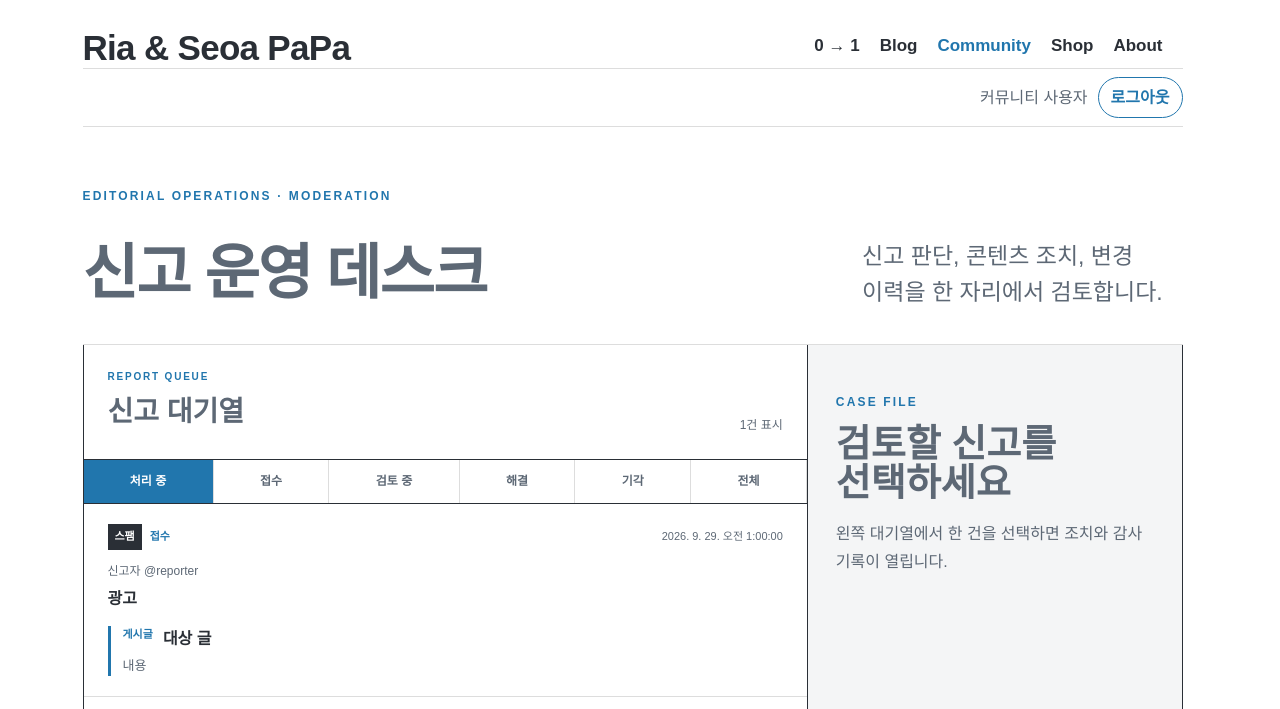
Test: AdminReportsPage › shows target audit after a content action and moves focus to the selected inspector
Step 1. Click the button with aria-label "신고 대상 글 선택" → (125, 537), box [84,504,807,696]
(page scrolled)
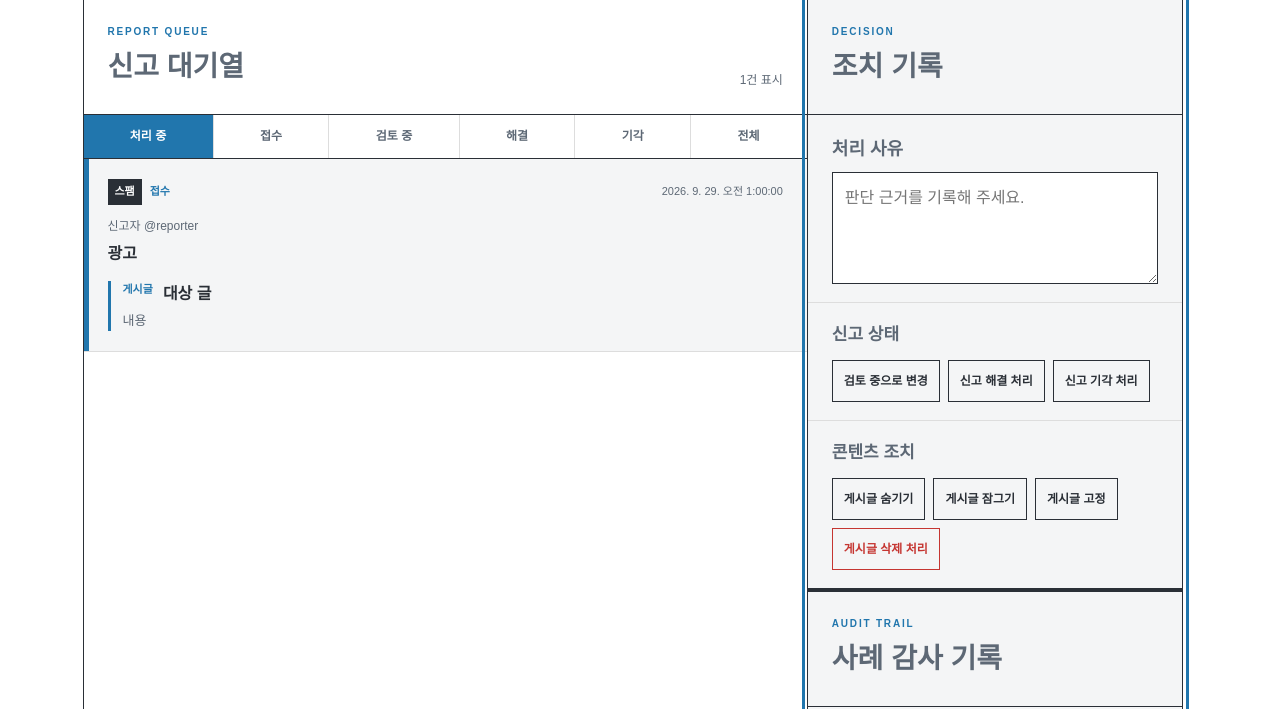
Step 2. Type "정책 위반" into the text box labelled "처리 사유" → (995, 228), box [832,172,1158,284]
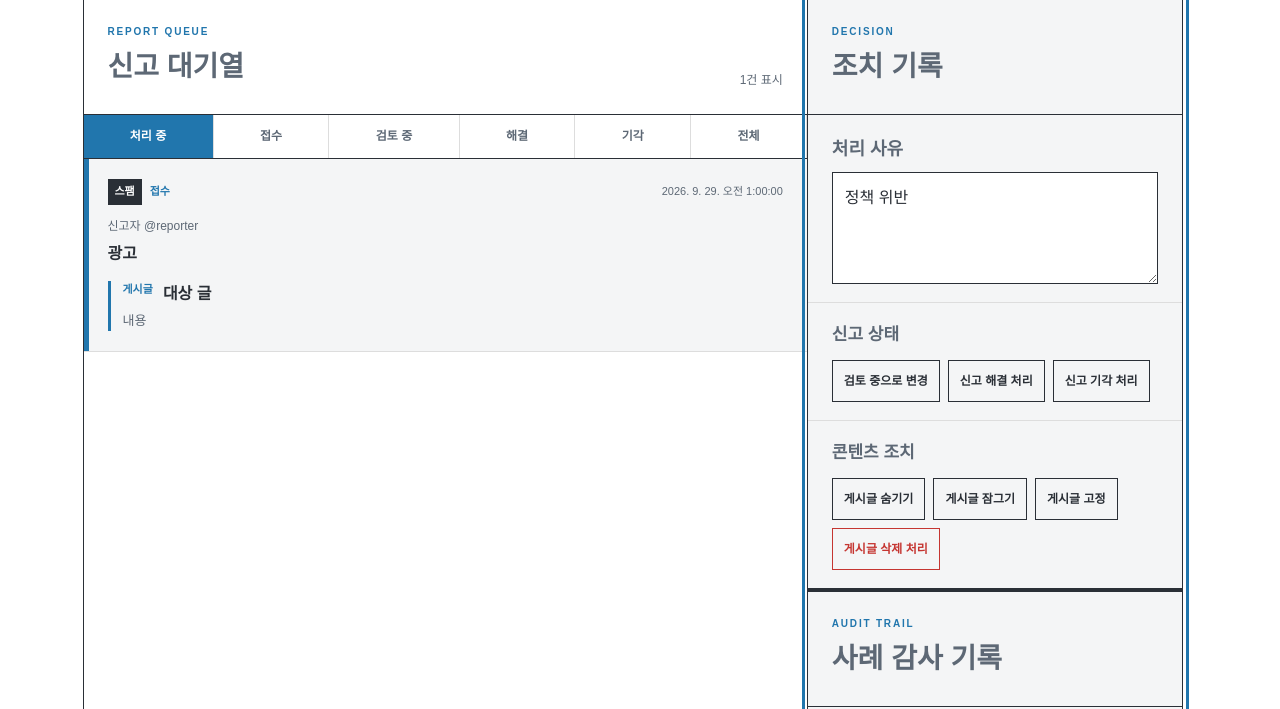
Step 3. Click the button "게시글 숨기기" → (879, 499), box [832,478,925,520]
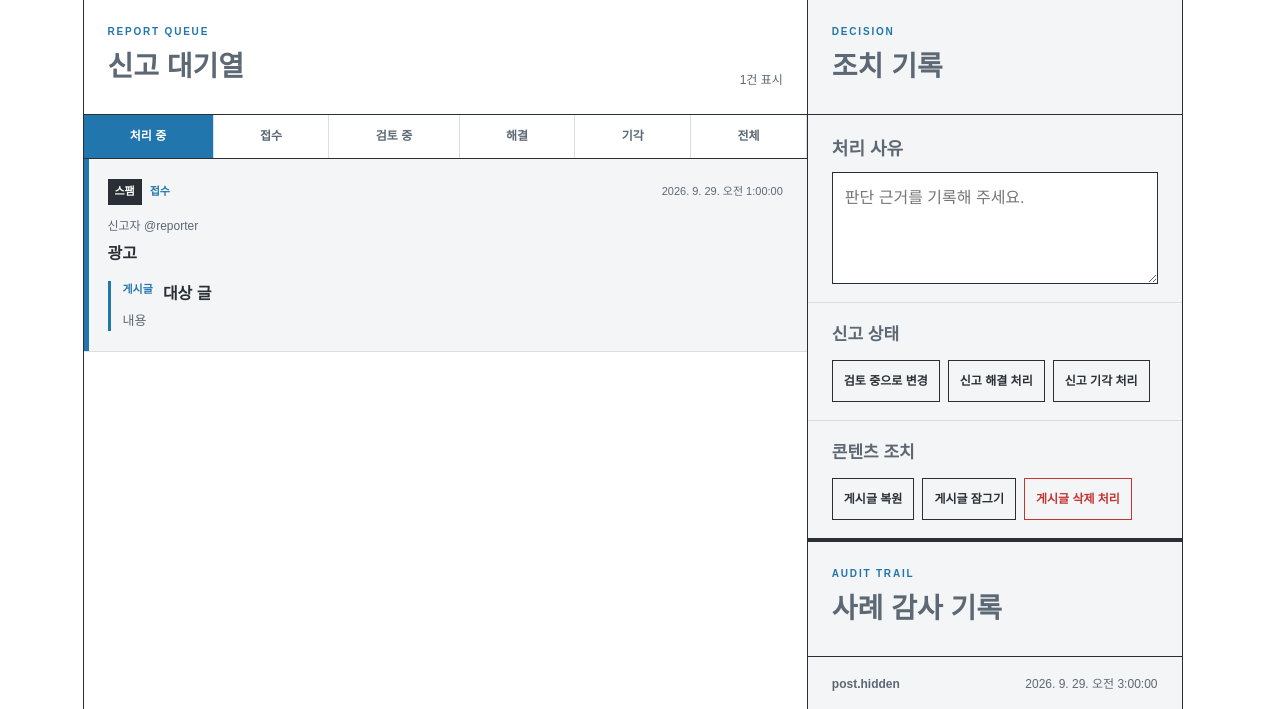
expect the text "post.hidden" is shown: met, box [832,675,900,694]
